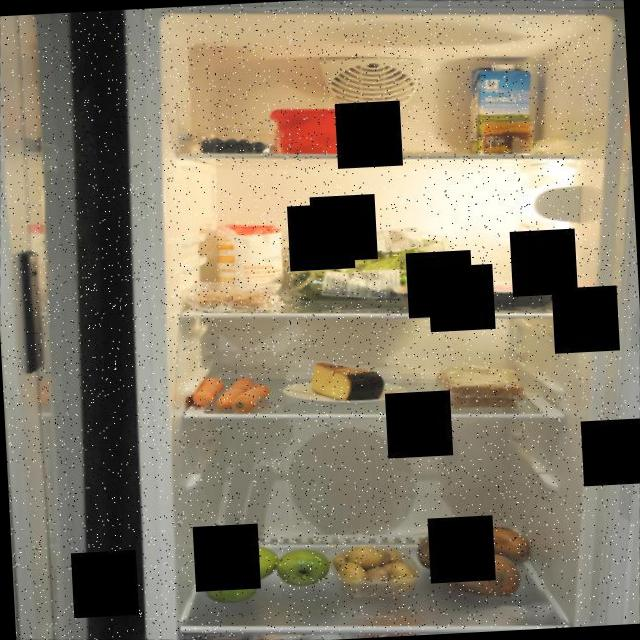Leche: (460, 59, 544, 160)
Mantequilla: (265, 101, 378, 162)
Manzana: (199, 536, 337, 612)
Patata: (326, 540, 421, 604)
Queso: (308, 357, 389, 408)
Zanahoria: (185, 368, 278, 416)
